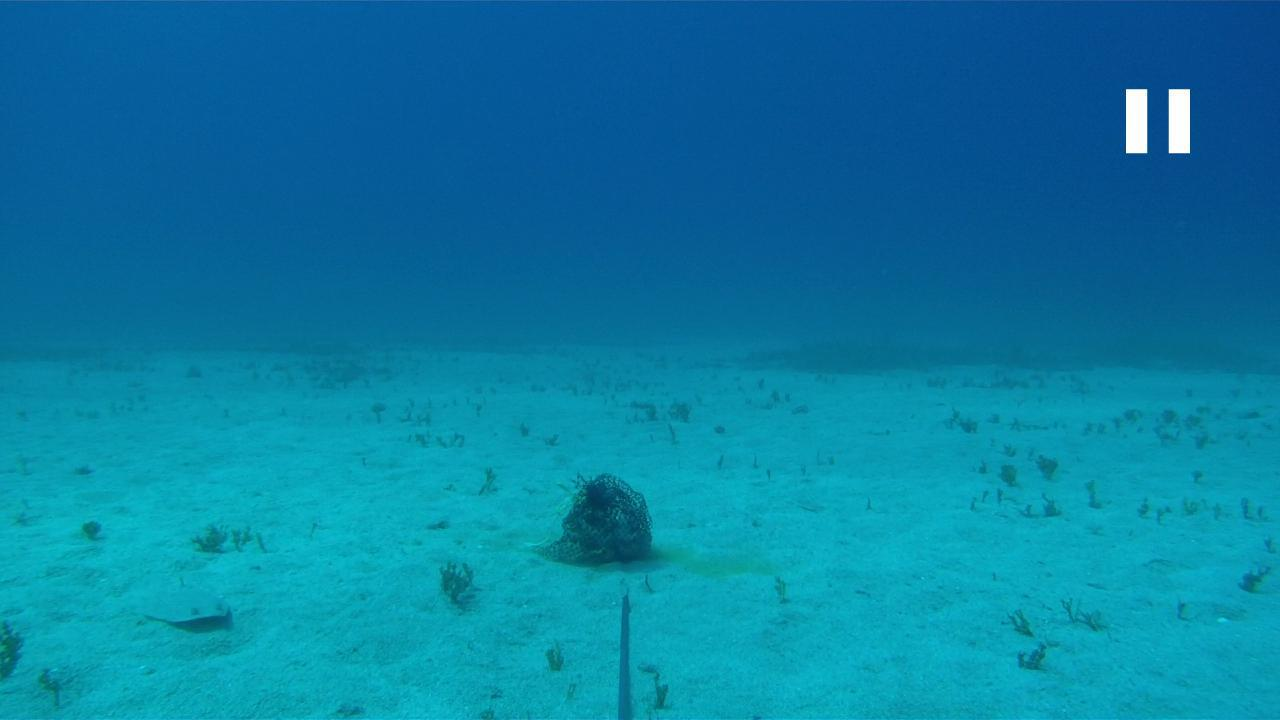bothus: (139, 575, 229, 628)
